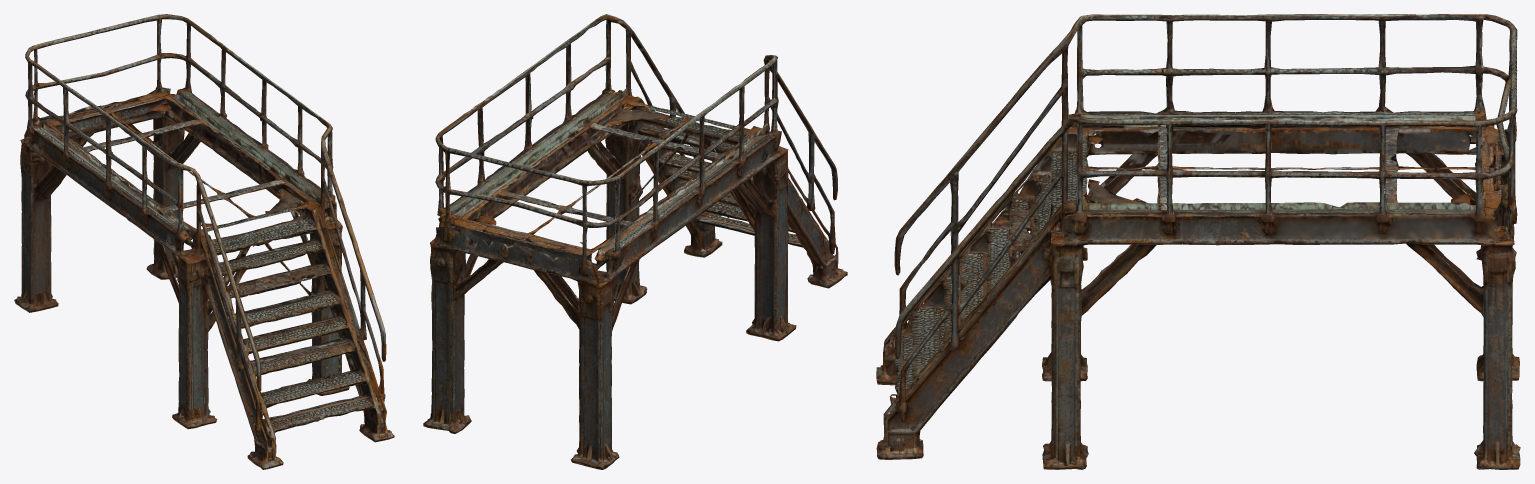
File: BK_Catwalk.fbx
3 views of the same model, side by side, from view 1: azimuth 30°, elevation 25°; view 2: azimuth 150°, elevation 25°; view 3: azimuth 270°, elevation 25° (orthographic). The views are drawn at different scales.
Parts seen in each view (by area): view 1: texture_mapping; view 2: texture_mapping; view 3: texture_mapping.
Part boxes in pixels (box(x1,y1,x2,y2)): texture_mapping: box(14, 14, 394, 469); texture_mapping: box(423, 14, 847, 469); texture_mapping: box(876, 14, 1520, 469).
Size of the model in its own units: 0.4018 by 0.9931 by 0.594.
Materials: 1 (1 with a texture image).
